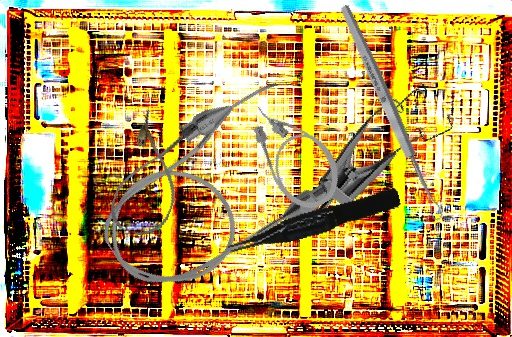Cannula: (74, 69, 347, 316), (238, 86, 352, 220), (104, 107, 202, 243)
Speculum: (293, 62, 465, 274)
Surgical Spoon: (337, 3, 446, 223)
Tissue Forceps: (223, 187, 404, 257)
